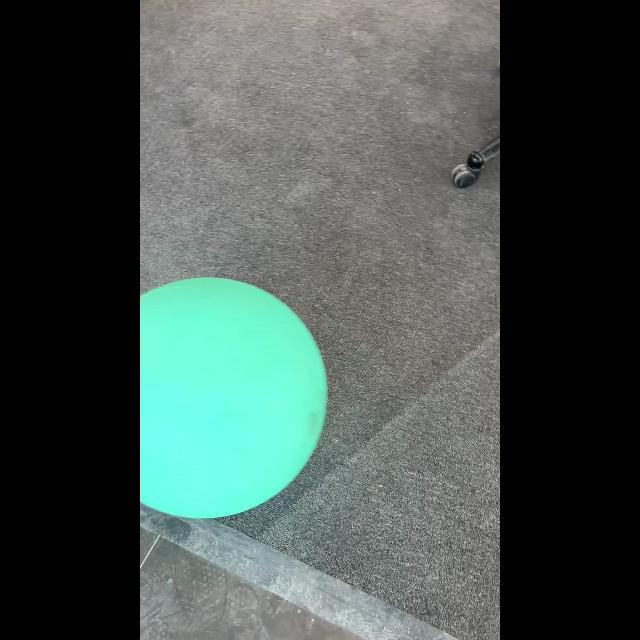ALGAE: (140, 276, 328, 520)
